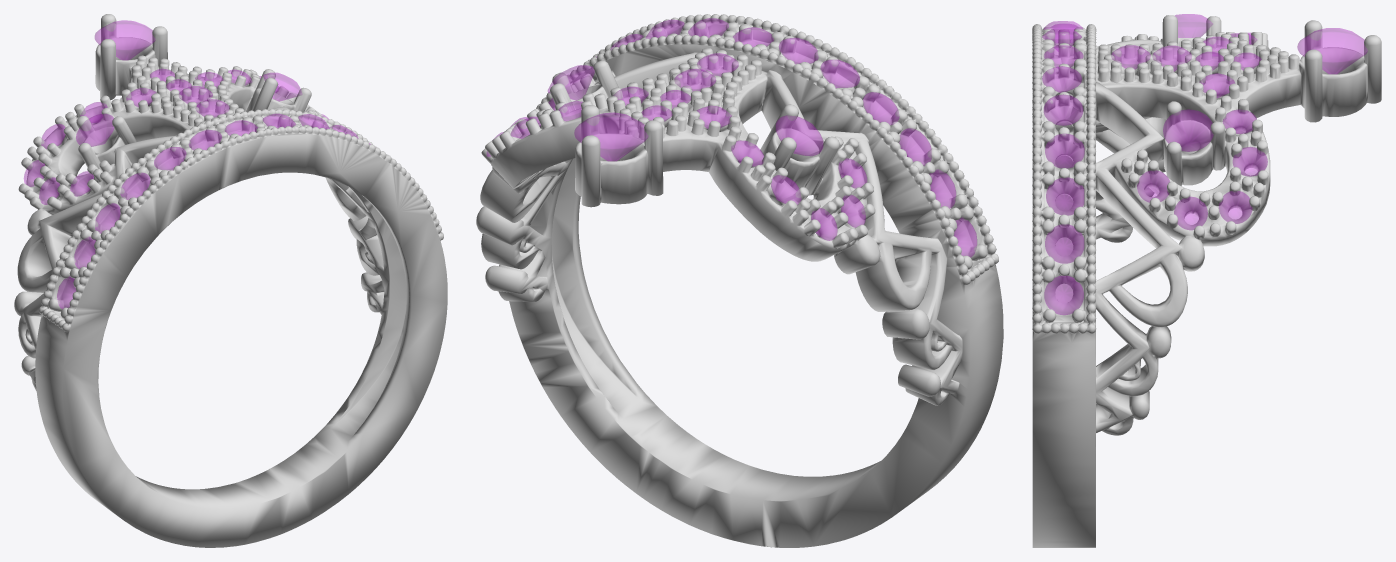
The model's file is Jewlery.glb.
The picture shows the model from 3 angles, left to right: view 1: azimuth 30°, elevation 25°; view 2: azimuth 150°, elevation 25°; view 3: azimuth 270°, elevation 25°; orthographic projection. The views are drawn at different scales.
Parts seen in each view (by area): view 1: Anillo 15 carlos, cruz.088, cruz.087, cruz.080, cruz.098, cruz.097, cruz.099; view 2: Anillo 15 carlos, cruz.088, cruz.087, cruz.080, cruz.097, cruz.099, cruz.098, cruz.096, cruz.100, cruz.070, cruz.071, cruz.083 (+1 smaller); view 3: Anillo 15 carlos, cruz.088, cruz.080, cruz.095, cruz.094, cruz.093, cruz.092, cruz.091, cruz.079, cruz.078, cruz.081, cruz.090 (+8 smaller).
Part boxes in pixels (box(x1,y1,x2,y2)): Anillo 15 carlos: box(14, 14, 447, 547); cruz.088: box(95, 20, 155, 59); cruz.087: box(76, 114, 114, 146); cruz.080: box(263, 73, 301, 101); cruz.098: box(120, 173, 149, 199); cruz.097: box(154, 147, 186, 169); cruz.099: box(95, 203, 120, 233); Anillo 15 carlos: box(476, 14, 1003, 547); cruz.088: box(574, 112, 648, 160); cruz.087: box(776, 115, 823, 155); cruz.080: box(548, 65, 594, 100); cruz.097: box(820, 60, 859, 87); cruz.099: box(899, 128, 931, 165); cruz.098: box(863, 92, 899, 124); cruz.096: box(779, 38, 818, 63); cruz.100: box(929, 169, 955, 208); cruz.070: box(697, 53, 738, 76); cruz.071: box(674, 69, 715, 91); cruz.083: box(771, 175, 801, 204); Anillo 15 carlos: box(1032, 15, 1381, 547); cruz.088: box(1297, 28, 1367, 73); cruz.080: box(1163, 109, 1213, 151); cruz.095: box(1044, 276, 1083, 314); cruz.094: box(1045, 224, 1083, 263); cruz.093: box(1046, 177, 1083, 215); cruz.092: box(1045, 134, 1084, 168); cruz.091: box(1044, 94, 1082, 125); cruz.079: box(1174, 197, 1207, 229); cruz.078: box(1219, 191, 1252, 223); cruz.081: box(1137, 170, 1169, 202); cruz.090: box(1042, 66, 1081, 92).
Size of the model in its own units: 1.68 by 1.76 by 1.14.
